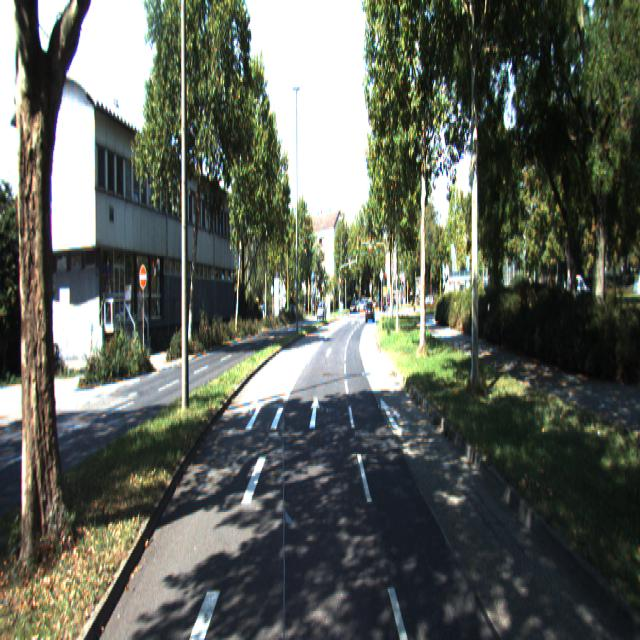Car: (366, 302, 374, 324)
